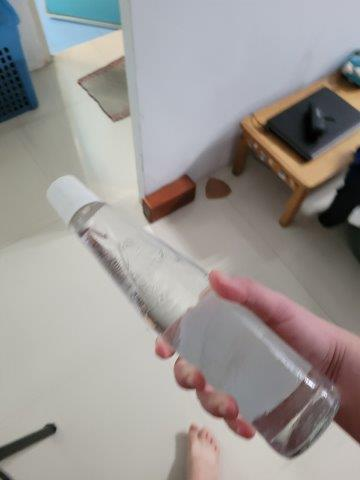botolkaca: (44, 175, 343, 459)
